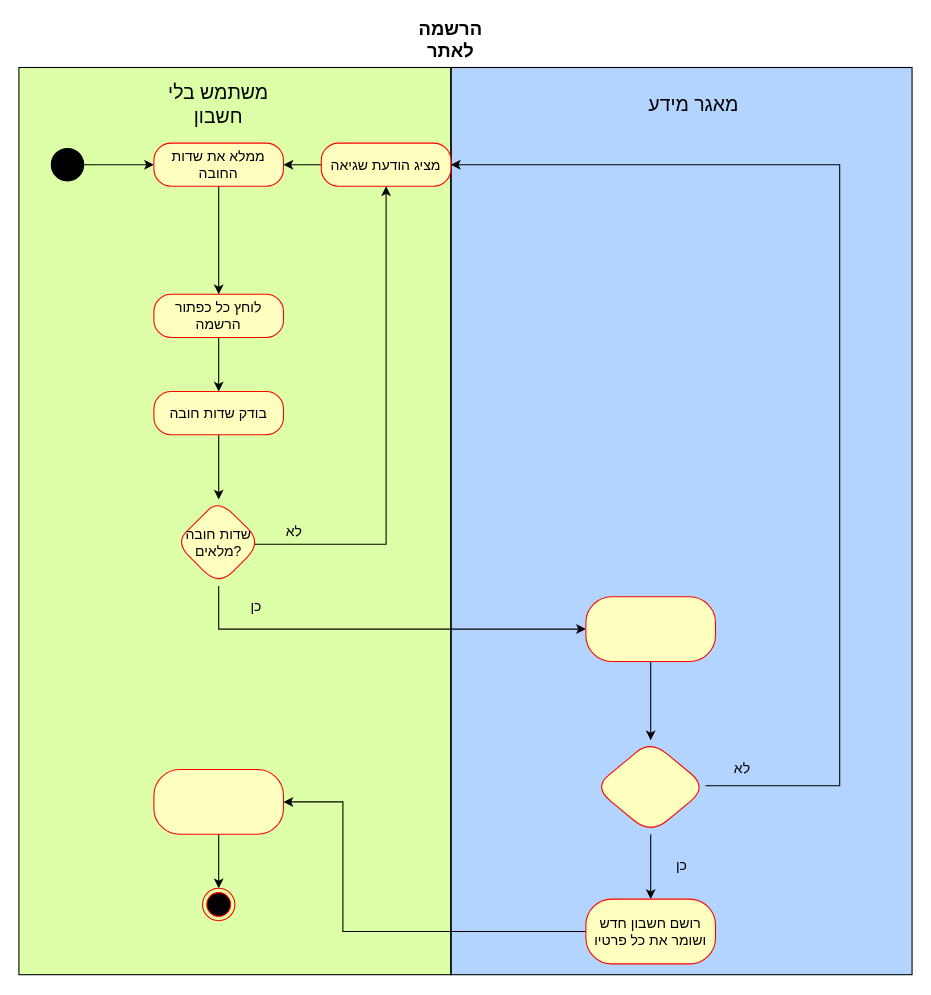
This 931x995 diagram has some shape labels left out. Each missing label, with the box of its shape:
בודק אימייל, סיסמא ואימות סיסמא: (585, 596, 716, 662)
עובר לדף ראשי: (153, 768, 284, 834)
פרטיי הרשמה מאומתים: (593, 739, 707, 834)
